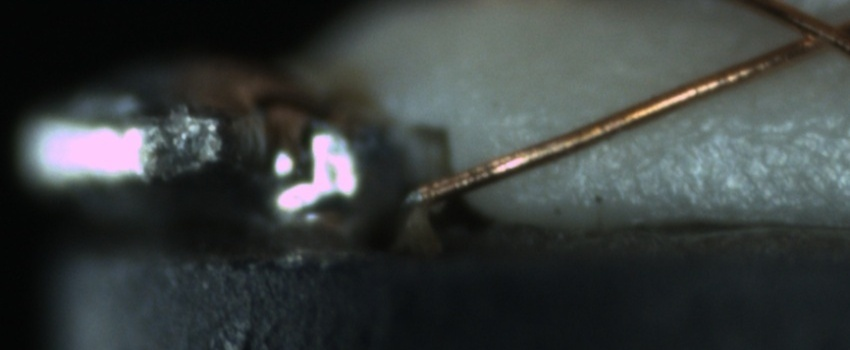CL: (771, 3, 849, 62)
DL: (508, 100, 850, 155)
